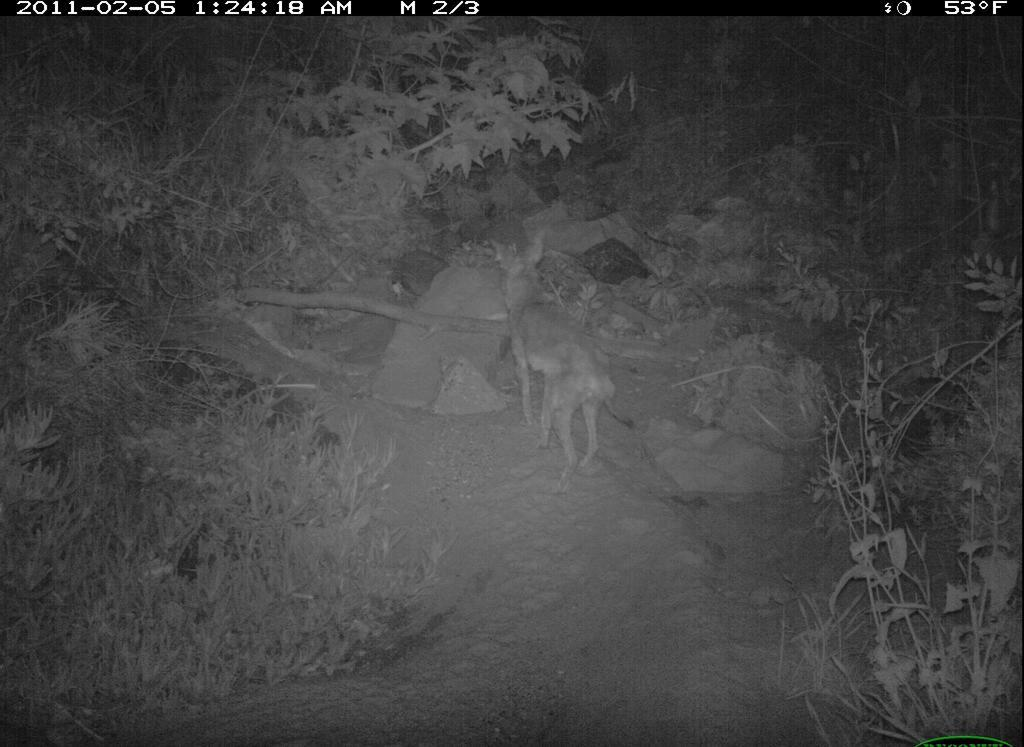coyote: (475, 227, 634, 475)
